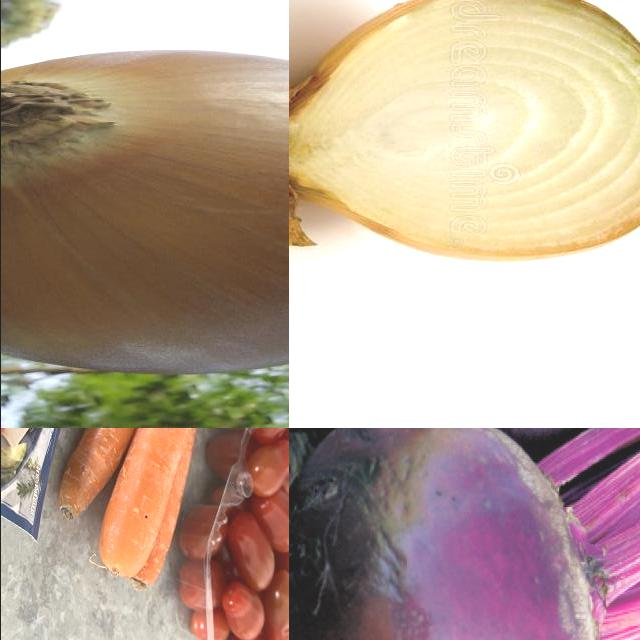beet: (289, 429, 596, 640)
carrot: (86, 429, 190, 619), (31, 429, 136, 578)
onion: (1, 49, 289, 379), (289, 1, 640, 266)
tomato: (192, 429, 289, 640)
